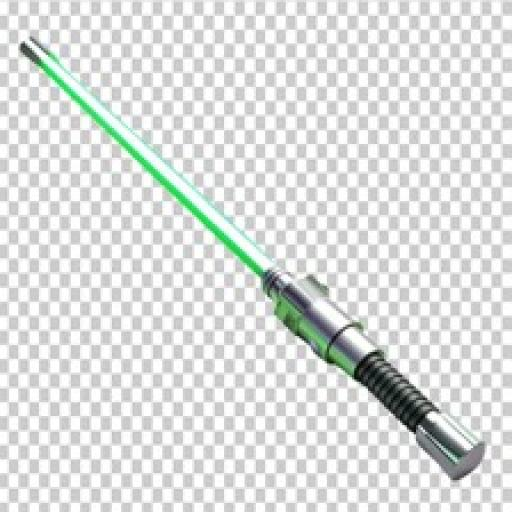lightsaber: (19, 35, 485, 480)
